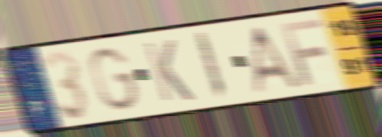3: (42, 48, 91, 122)
A: (251, 24, 305, 96)
F: (279, 16, 327, 88)
G: (87, 45, 142, 113)
I: (192, 29, 230, 103)
K: (140, 38, 197, 105)
